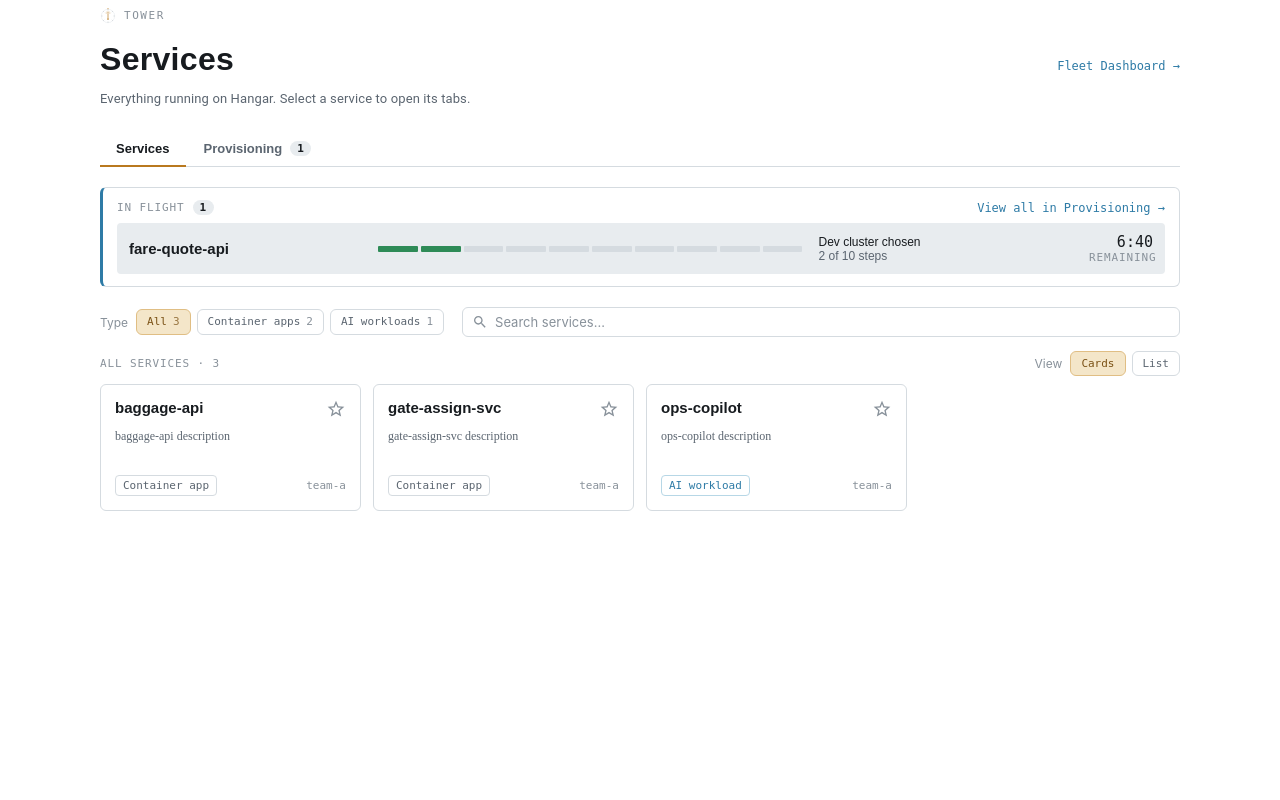
it: AppPicker home › shows the in-flight strip and opens the Provisioning tab for a service
Expected: the text "baggage-api" is shown, x1=115 y1=399 x2=203 y2=416
Expected: the element named "Provisioning in flight" is shown, x1=100 y1=187 x2=1180 y2=287
Step 1. Click the text "fare-quote-api" → (179, 248), box x1=129 y1=240 x2=229 y2=257
(page scrolled)
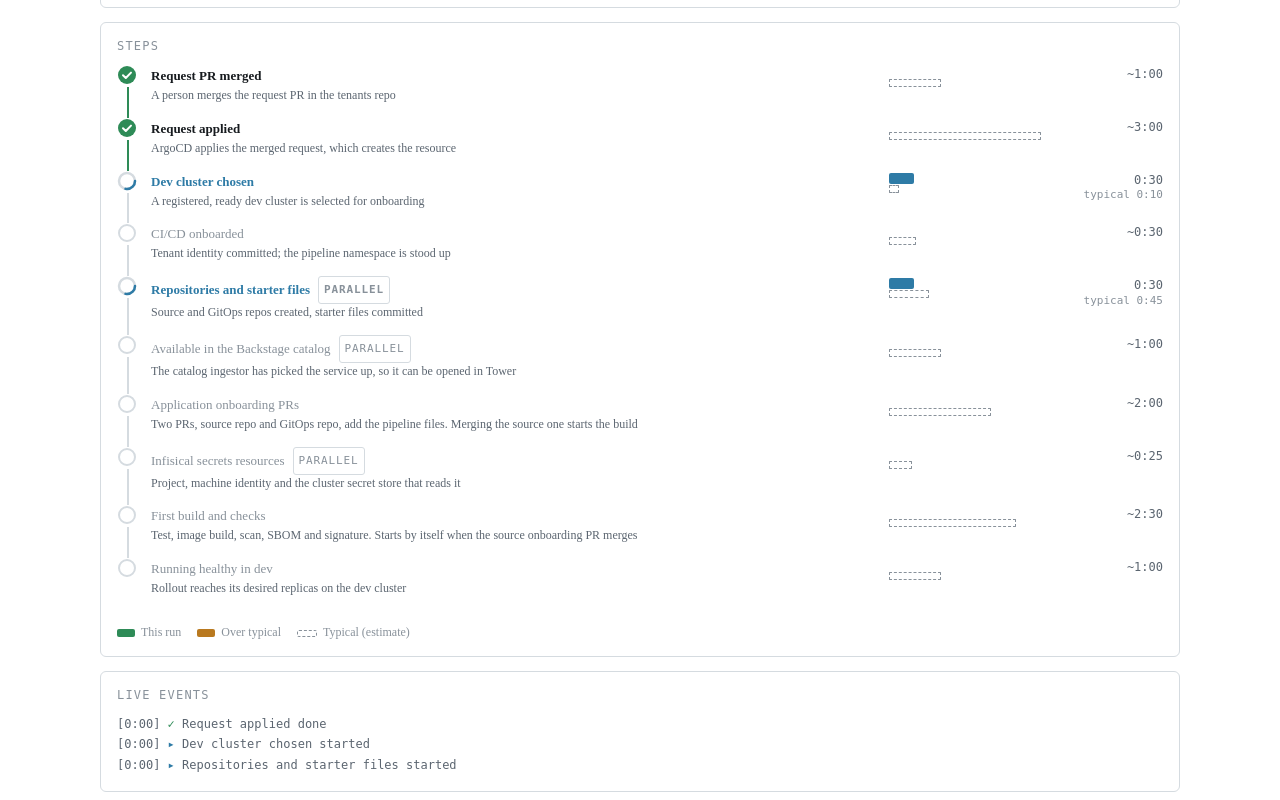
Expected: the text "Request PR merged" is shown, x1=151 y1=68 x2=262 y2=83
Expected: the text "First build and checks" is shown, x1=151 y1=508 x2=266 y2=523
Expected: the button "baggage-api" is gone
